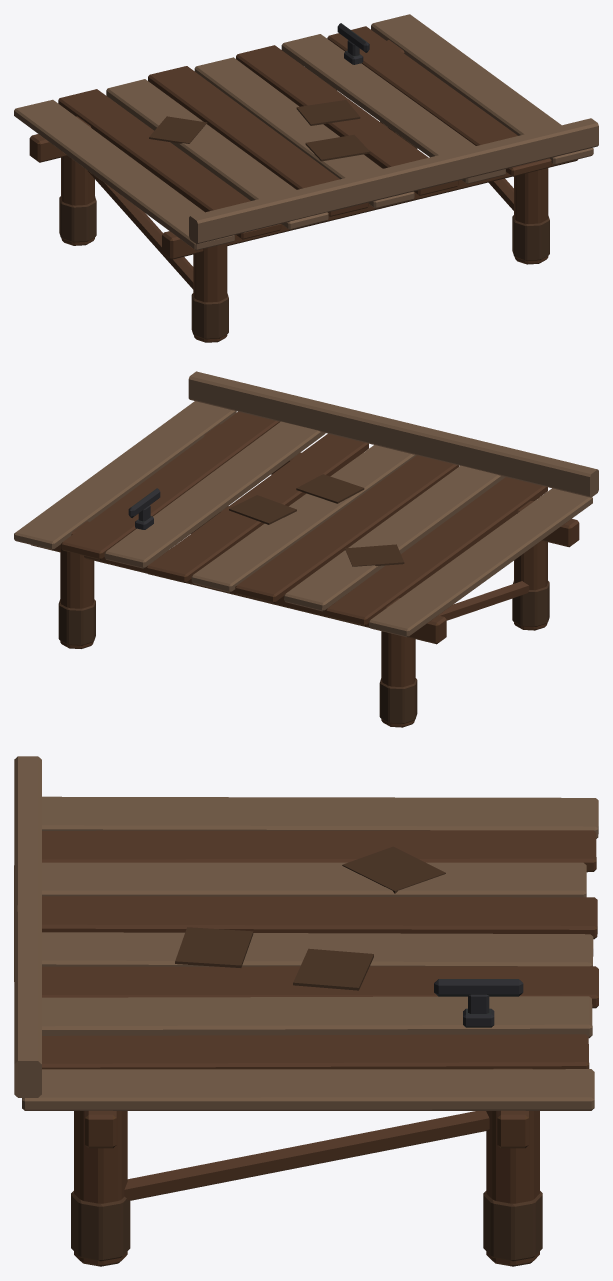
Rendered from prop_dock_platform_a.glb.
3 views of the same model, one above another, from view 1: azimuth 30°, elevation 25°; view 2: azimuth 150°, elevation 25°; view 3: azimuth 270°, elevation 25° (orthographic). The views are drawn at different scales.
Parts seen in each view (by area): view 1: dock_bull_rail, dock_bearer_0, dock_pile_wet_0, dock_cleat_base; view 2: dock_bull_rail, dock_bearer_0, dock_pile_wet_0, dock_cleat_base; view 3: dock_bull_rail, dock_bearer_0, dock_pile_wet_0, dock_cleat_base.
Part boxes in pixels (x1,y1,x2,y2): dock_bull_rail: (14, 14, 598, 250); dock_bearer_0: (29, 26, 577, 342); dock_pile_wet_0: (59, 100, 549, 339); dock_cleat_base: (337, 23, 369, 64); dock_bull_rail: (14, 371, 598, 637); dock_bearer_0: (31, 411, 579, 727); dock_pile_wet_0: (58, 474, 549, 723); dock_cleat_base: (128, 488, 160, 529); dock_bull_rail: (14, 756, 598, 1110); dock_bearer_0: (42, 830, 598, 1266); dock_pile_wet_0: (71, 846, 542, 1261); dock_cleat_base: (434, 979, 523, 1027).
Size of the model in its own units: 1.98 by 0.695 by 1.57.
